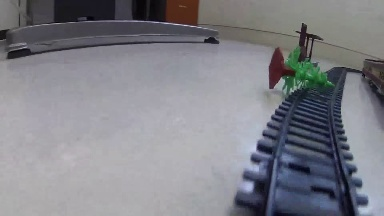tree: (268, 47, 335, 93)
